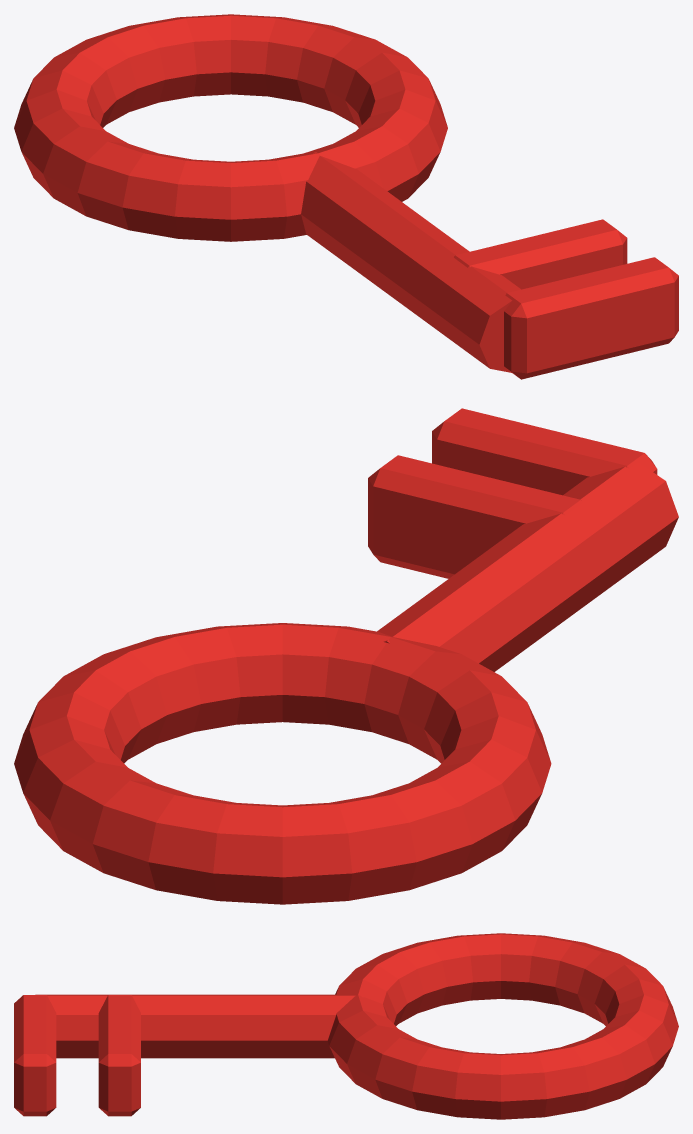
The model's file is key-red.glb.
3 renders of one model, top to bottom at view 1: azimuth 30°, elevation 25°; view 2: azimuth 150°, elevation 25°; view 3: azimuth 270°, elevation 25°, orthographic. The views are drawn at different scales.
Visible parts, largest first — view 1: key-red; view 2: key-red; view 3: key-red.
Part boxes in pixels (box(x1,y1,x2,y2)): key-red: box(14, 14, 678, 379); key-red: box(14, 408, 678, 904); key-red: box(14, 933, 678, 1119).
Size of the model in its own units: 0.336 by 0.066 by 0.628.
